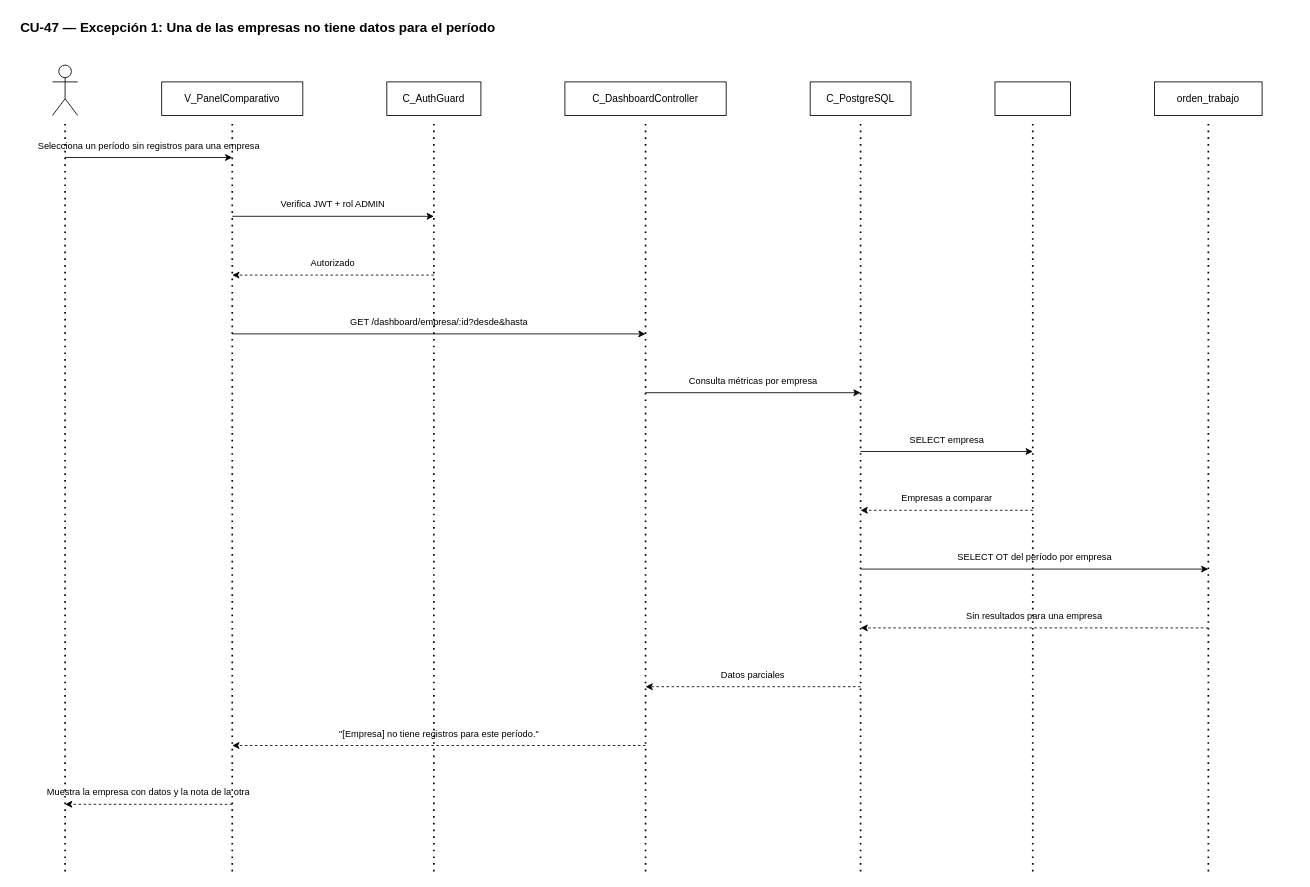
This 1310x887 diagram has some shape labels left out. Each missing label, with the box of its shape:
Administrador: (52, 64, 78, 116)
empresa: (994, 81, 1071, 116)
